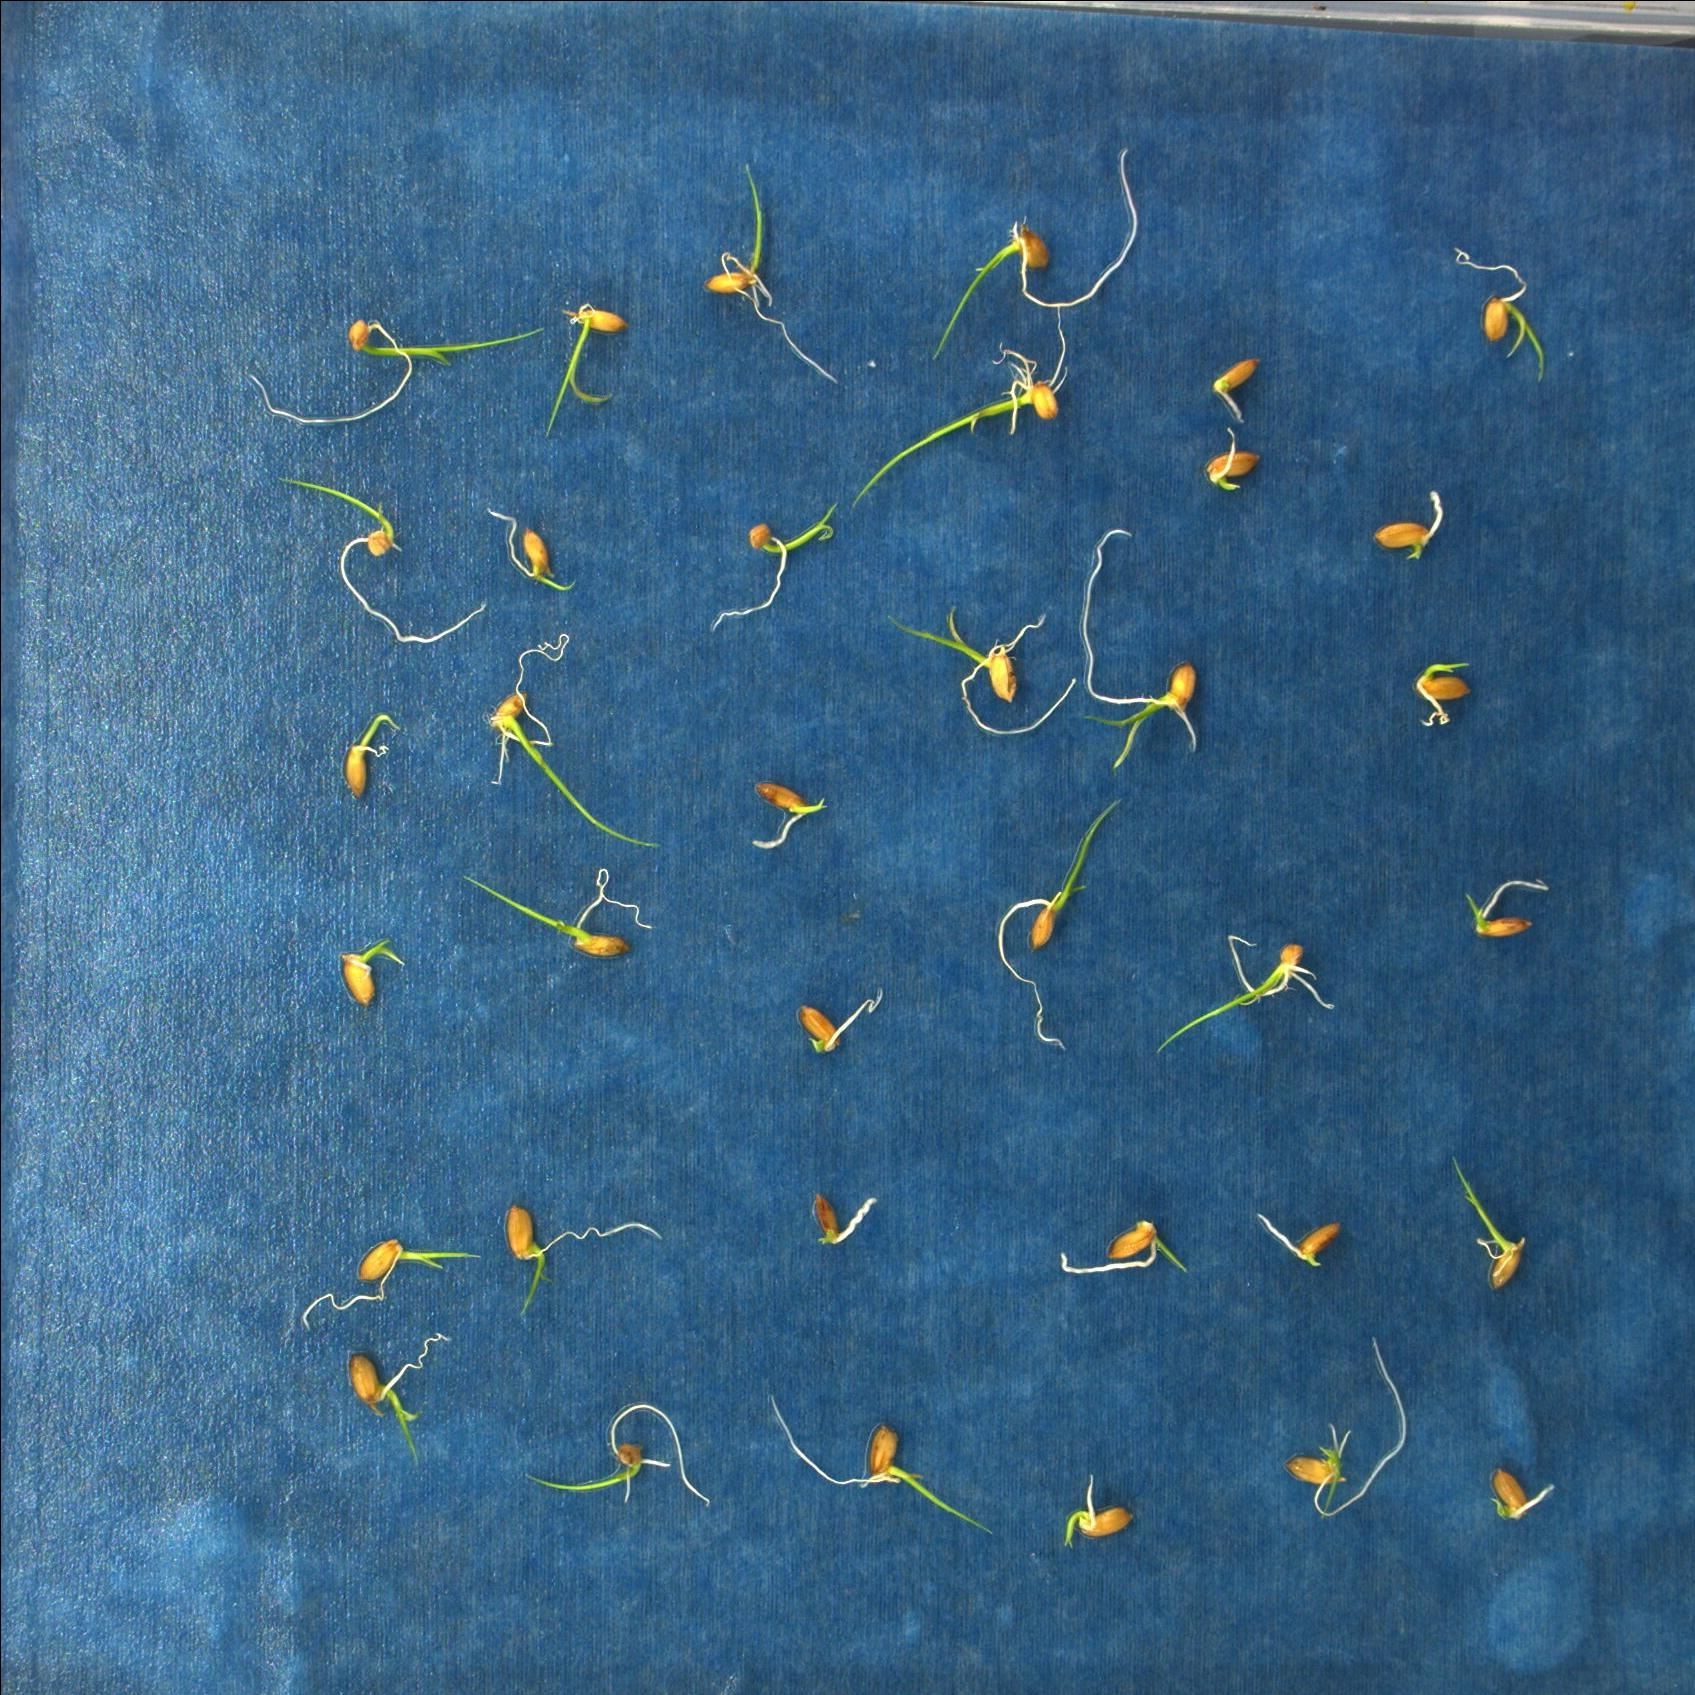not sprout: (1347, 477, 1453, 570), (784, 986, 893, 1069), (804, 1178, 882, 1254), (1206, 349, 1260, 421)
sprout: (841, 298, 1083, 520), (475, 627, 660, 860), (938, 147, 1144, 354), (757, 1380, 1007, 1548), (245, 300, 540, 435), (275, 466, 494, 641), (698, 152, 841, 390), (997, 792, 1124, 1045), (1069, 528, 1200, 770), (886, 590, 1077, 745), (1149, 917, 1343, 1060), (498, 1200, 674, 1338), (455, 854, 658, 970), (705, 490, 849, 647), (1288, 1336, 1412, 1516), (520, 1402, 720, 1510), (286, 1226, 486, 1330), (1451, 237, 1555, 383), (340, 1326, 447, 1465), (1444, 1152, 1540, 1295), (542, 290, 635, 436), (483, 498, 582, 596), (329, 927, 408, 1020), (324, 709, 407, 798), (1451, 869, 1548, 944), (1055, 1470, 1139, 1552), (742, 770, 824, 851), (1191, 424, 1273, 503), (1411, 652, 1473, 736), (1485, 1464, 1557, 1527)
